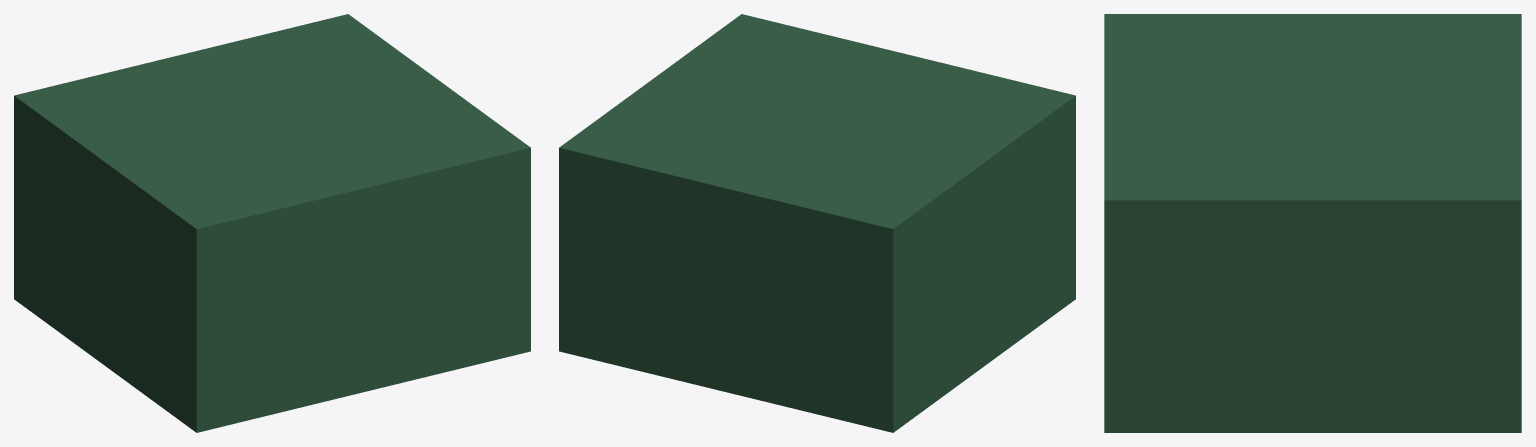
Rendered from nature_bush_a_lod2.glb.
The picture shows the model from 3 angles, left to right: view 1: azimuth 30°, elevation 25°; view 2: azimuth 150°, elevation 25°; view 3: azimuth 270°, elevation 25°; orthographic projection. The views are drawn at different scales.
Visible parts, largest first — view 1: nature_bush_a_lod2; view 2: nature_bush_a_lod2; view 3: nature_bush_a_lod2.
Part boxes in pixels (bbox=[...]): nature_bush_a_lod2: bbox=[14, 14, 530, 432]; nature_bush_a_lod2: bbox=[559, 14, 1075, 432]; nature_bush_a_lod2: bbox=[1104, 14, 1521, 432].
Size of the model in its own units: 2.06 by 1.2 by 1.95.
